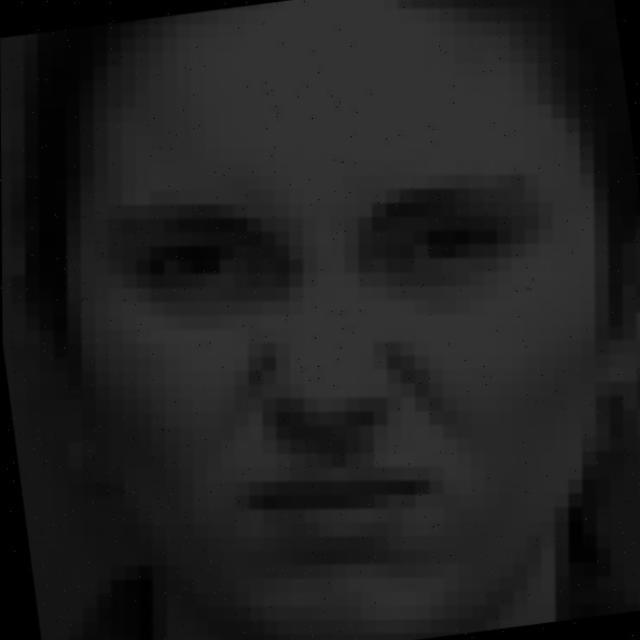Disgust: (47, 93, 605, 570)
